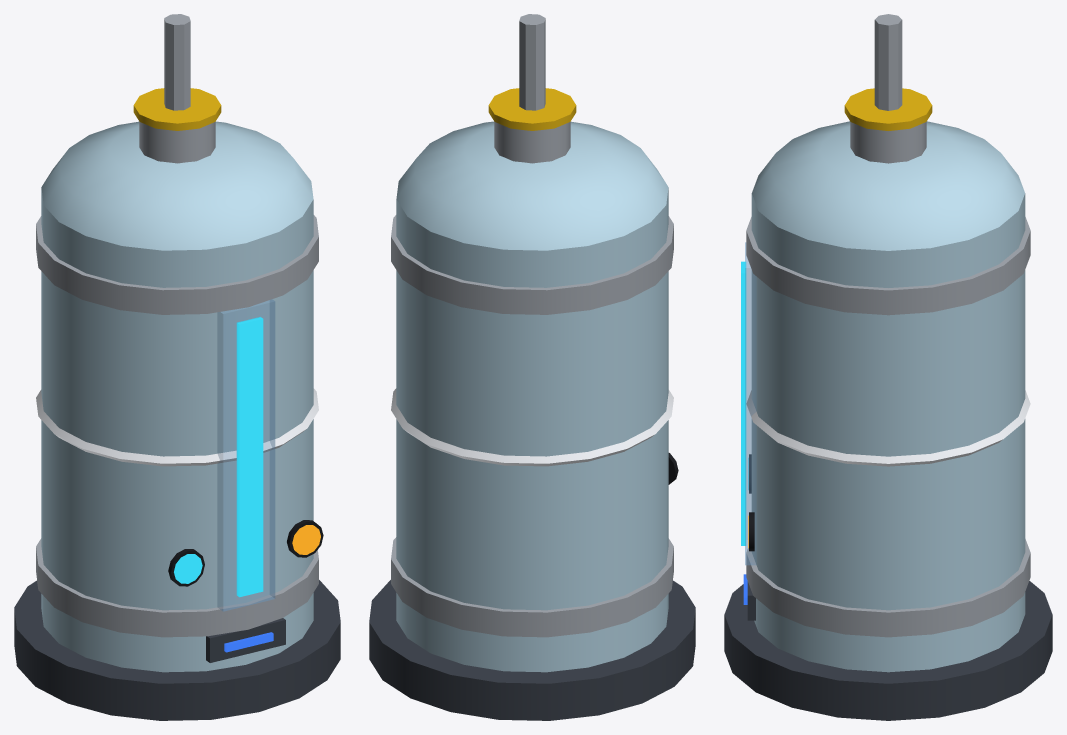
File: cryo_cryo_storage_tank.glb
The picture shows the model from 3 angles, left to right: view 1: azimuth 30°, elevation 25°; view 2: azimuth 150°, elevation 25°; view 3: azimuth 270°, elevation 25°; orthographic projection.
Parts seen in each view (by area): view 1: cryo_cryo_storage_tank; view 2: cryo_cryo_storage_tank; view 3: cryo_cryo_storage_tank.
Part boxes in pixels (<box>): cryo_cryo_storage_tank: <box>14,14,340,720</box>; cryo_cryo_storage_tank: <box>369,14,695,720</box>; cryo_cryo_storage_tank: <box>724,14,1052,720</box>.
Size of the model in its own units: 1.2 by 2.55 by 1.2.
